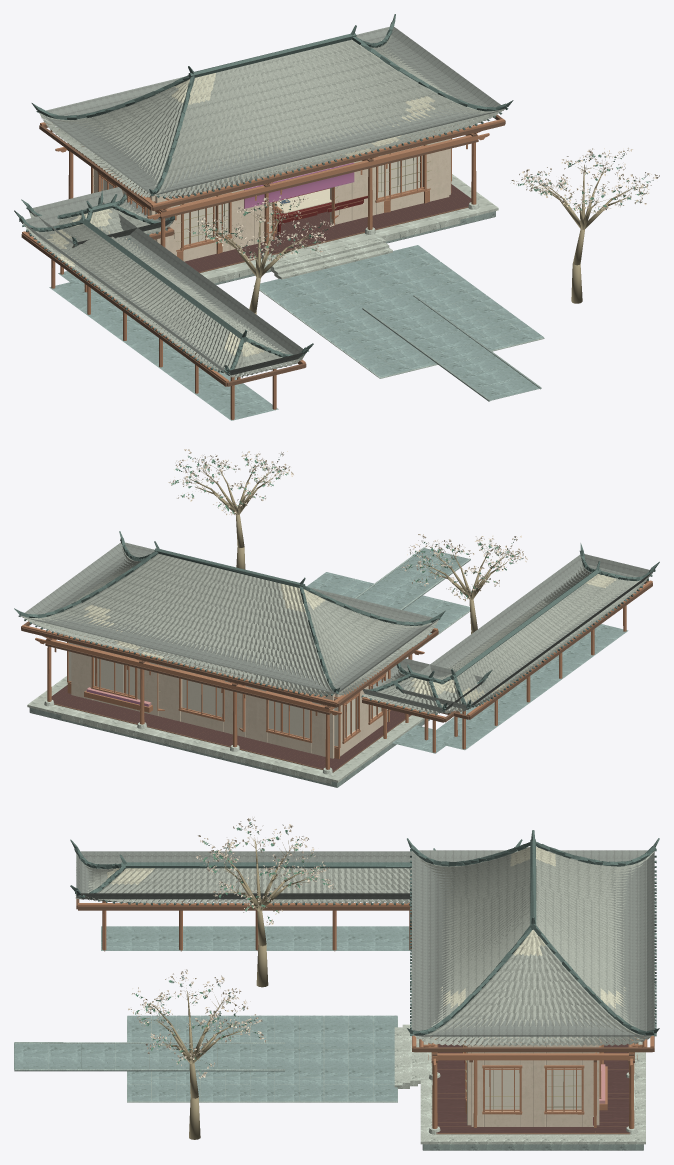
Rendered from reference-public_models_places-low_nuanxiangwu.glb.
The picture shows the model from 3 angles, top to bottom: view 1: azimuth 30°, elevation 25°; view 2: azimuth 150°, elevation 25°; view 3: azimuth 270°, elevation 25°; orthographic projection. The views are drawn at different scales.
Visible parts, largest first — view 1: r15_nuanxiangwu_Sunwen_r18_warm_tile.001, Mobile_nuanxiangwu_paving, r15_nuanxiangwu_Sunwen_r18_warm_roof.001, r15_nuanxiangwu_Sunwen_r18_warm_wood.001, r15_nuanxiangwu_Sunwen_r18_warm_tiledark.001, Mobile_nuanxiangwu_plants, r15_nuanxiangwu_Sunwen_r18_warm_plaster.002, r15_nuanxiangwu_Sunwen_r18_warm_darkwood.001, r15_nuanxiangwu_Sunwen_r18_warm_cutstone.001, Mobile_nuanxiangwu_floorwood, r15_nuanxiangwu_Sunwen_r18_warm_tilelight.001, r15_nuanxiangwu_Sunwen_r18_warm_screen.002 (+5 smaller); view 2: r15_nuanxiangwu_Sunwen_r18_warm_tile.001, r15_nuanxiangwu_Sunwen_r18_warm_roof.001, Mobile_nuanxiangwu_paving, r15_nuanxiangwu_Sunwen_r18_warm_wood.001, r15_nuanxiangwu_Sunwen_r18_warm_plaster.002, r15_nuanxiangwu_Sunwen_r18_warm_tiledark.001, r15_nuanxiangwu_Sunwen_r18_warm_cutstone.001, Mobile_nuanxiangwu_plants, r15_nuanxiangwu_Sunwen_r18_warm_darkwood.001, Mobile_nuanxiangwu_floorwood, r15_nuanxiangwu_Sunwen_r18_warm_screen.001, r15_nuanxiangwu_Sunwen_r18_warm_tilelight.001 (+2 smaller); view 3: r15_nuanxiangwu_Sunwen_r18_warm_tile.001, Mobile_nuanxiangwu_paving, r15_nuanxiangwu_Sunwen_r18_warm_roof.001, Mobile_nuanxiangwu_plants, r15_nuanxiangwu_Sunwen_r18_warm_tiledark.001, r15_nuanxiangwu_Sunwen_r18_warm_wood.001, r15_nuanxiangwu_Sunwen_r18_warm_cutstone.001, r15_nuanxiangwu_Sunwen_r18_warm_plaster.002, Mobile_nuanxiangwu_floorwood, r15_nuanxiangwu_Sunwen_r18_warm_darkwood.001, r15_nuanxiangwu_Sunwen_r18_warm_stone.001, r15_nuanxiangwu_Sunwen_r18_warm_screen.002 (+2 smaller).
Boxes of the visible parts, x1,y1,x2,y2 form: r15_nuanxiangwu_Sunwen_r18_warm_tile.001: (23, 34, 505, 378); Mobile_nuanxiangwu_paving: (49, 245, 543, 420); r15_nuanxiangwu_Sunwen_r18_warm_roof.001: (23, 26, 504, 375); r15_nuanxiangwu_Sunwen_r18_warm_wood.001: (22, 118, 504, 419); r15_nuanxiangwu_Sunwen_r18_warm_tiledark.001: (14, 14, 513, 374); Mobile_nuanxiangwu_plants: (186, 148, 659, 314); r15_nuanxiangwu_Sunwen_r18_warm_plaster.002: (94, 127, 450, 261); r15_nuanxiangwu_Sunwen_r18_warm_darkwood.001: (21, 114, 505, 386); r15_nuanxiangwu_Sunwen_r18_warm_cutstone.001: (200, 174, 498, 283); Mobile_nuanxiangwu_floorwood: (184, 184, 471, 272); r15_nuanxiangwu_Sunwen_r18_warm_tilelight.001: (47, 45, 435, 356); r15_nuanxiangwu_Sunwen_r18_warm_screen.002: (103, 155, 422, 245); r15_nuanxiangwu_Sunwen_r18_warm_tile.001: (21, 546, 651, 713); r15_nuanxiangwu_Sunwen_r18_warm_roof.001: (21, 542, 651, 712); Mobile_nuanxiangwu_paving: (307, 548, 628, 753); r15_nuanxiangwu_Sunwen_r18_warm_wood.001: (21, 580, 652, 769); r15_nuanxiangwu_Sunwen_r18_warm_plaster.002: (71, 632, 387, 758); r15_nuanxiangwu_Sunwen_r18_warm_tiledark.001: (14, 531, 659, 715); r15_nuanxiangwu_Sunwen_r18_warm_cutstone.001: (27, 676, 431, 784); Mobile_nuanxiangwu_plants: (168, 449, 527, 633); r15_nuanxiangwu_Sunwen_r18_warm_darkwood.001: (21, 580, 652, 772); Mobile_nuanxiangwu_floorwood: (51, 685, 410, 771); r15_nuanxiangwu_Sunwen_r18_warm_screen.001: (68, 642, 338, 746); r15_nuanxiangwu_Sunwen_r18_warm_tilelight.001: (83, 559, 616, 702); r15_nuanxiangwu_Sunwen_r18_warm_tile.001: (75, 850, 655, 1046); Mobile_nuanxiangwu_paving: (14, 926, 409, 1101); r15_nuanxiangwu_Sunwen_r18_warm_roof.001: (76, 850, 654, 1036); Mobile_nuanxiangwu_plants: (128, 817, 335, 1139); r15_nuanxiangwu_Sunwen_r18_warm_tiledark.001: (70, 830, 659, 1036); r15_nuanxiangwu_Sunwen_r18_warm_wood.001: (78, 901, 653, 1128); r15_nuanxiangwu_Sunwen_r18_warm_cutstone.001: (394, 1024, 645, 1144); r15_nuanxiangwu_Sunwen_r18_warm_plaster.002: (467, 1037, 599, 1126); Mobile_nuanxiangwu_floorwood: (436, 1039, 630, 1132); r15_nuanxiangwu_Sunwen_r18_warm_darkwood.001: (76, 898, 654, 1134); r15_nuanxiangwu_Sunwen_r18_warm_stone.001: (14, 1042, 643, 1150); r15_nuanxiangwu_Sunwen_r18_warm_screen.002: (485, 1068, 581, 1109).
Size of the model in its own units: 26.67 by 9.18 by 28.62.
Materials: 26 (21 with a texture image).
